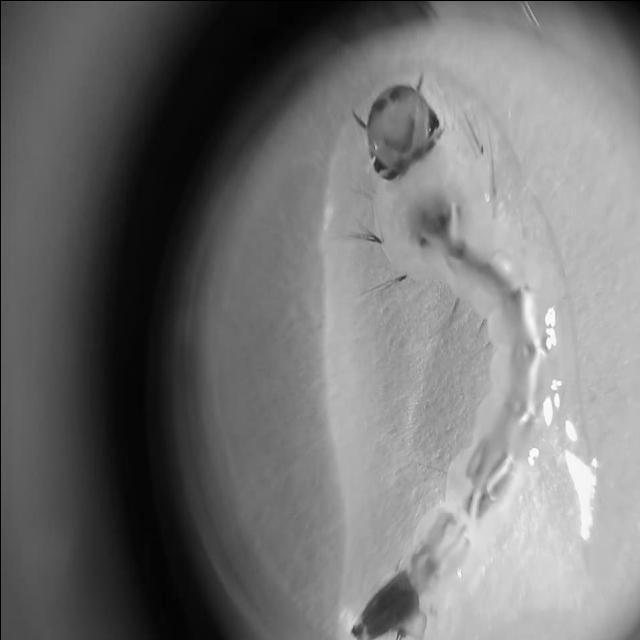larvas: (358, 70, 568, 640)
